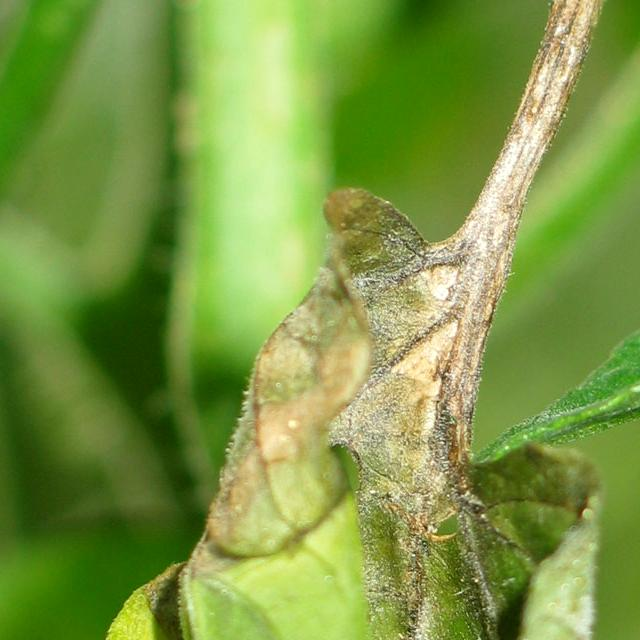Tomato leaf late blight: (0, 136, 640, 640)
